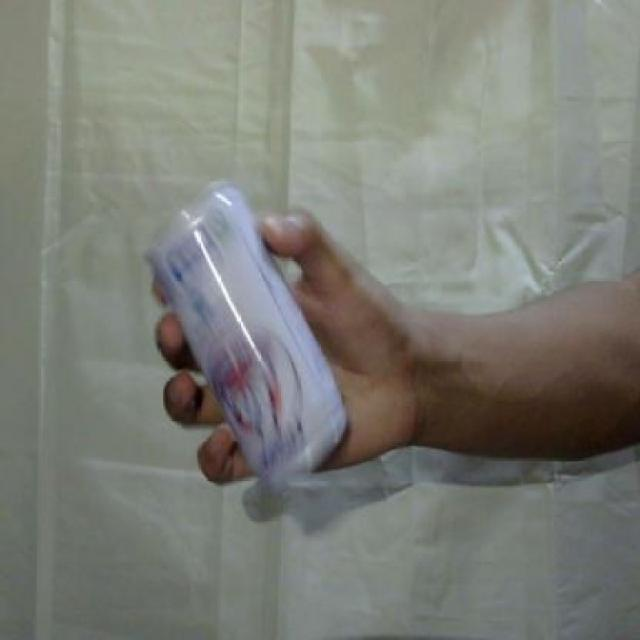Metal: (140, 168, 351, 519)
